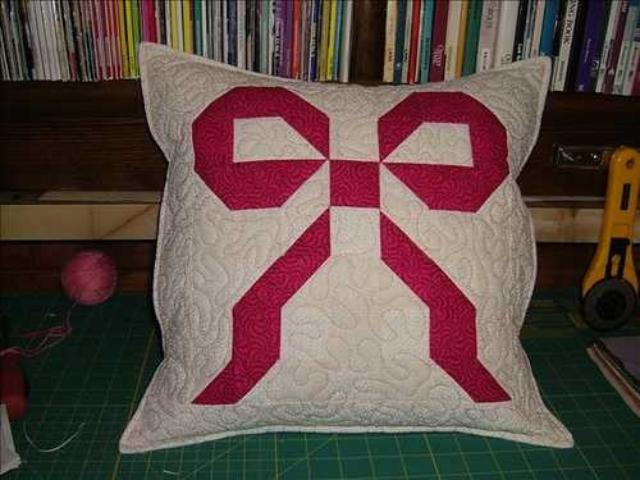pillow: (117, 40, 575, 454)
